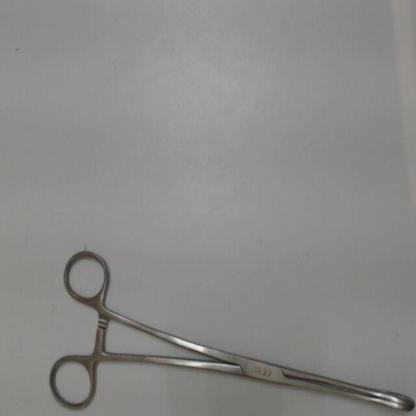Sponge Forceps: (43, 240, 415, 413)
